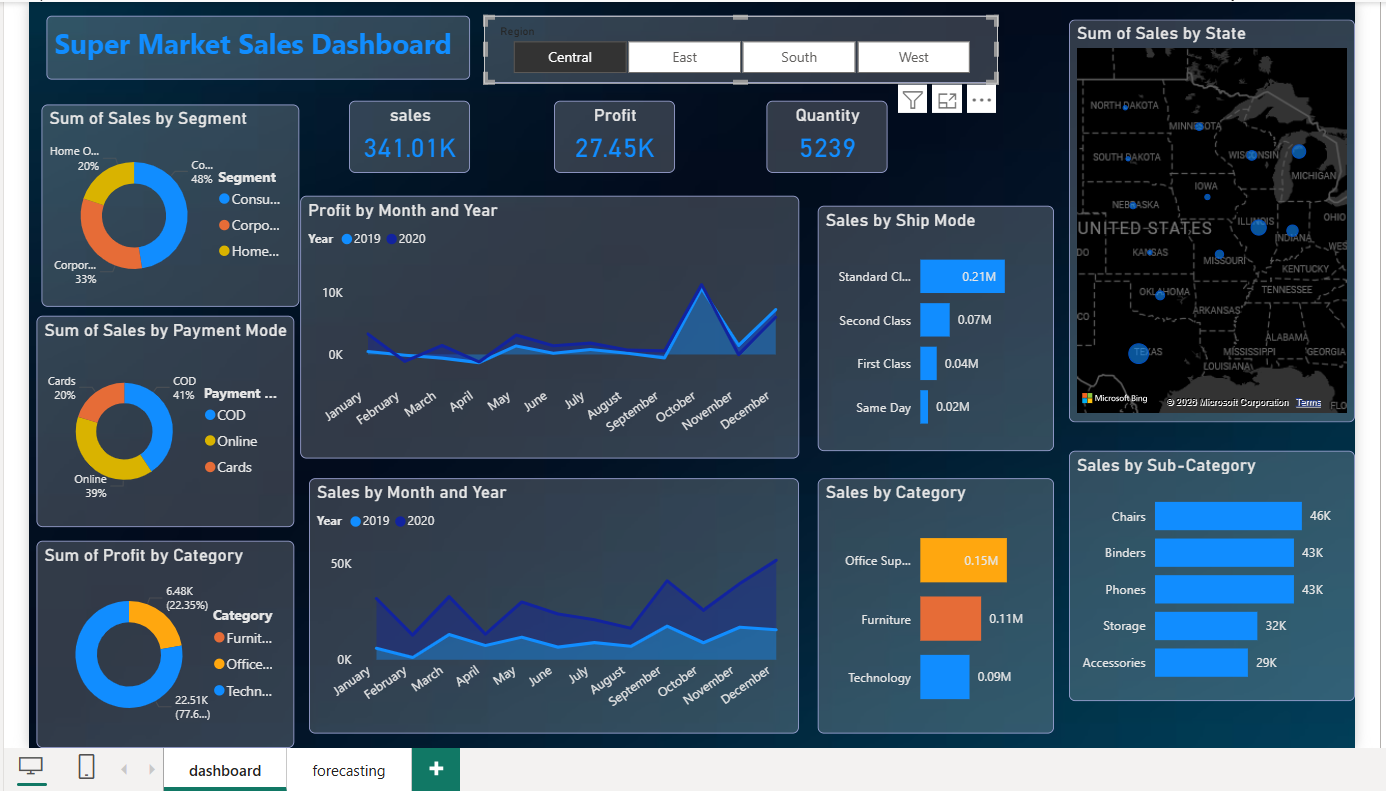

The dashboard page shown, as its layout file describes it:
{"tool":"powerbi","page":{"name":"dashboard","canvas":[1280,720],"ordinal":0},"visuals":[{"type":"clusteredBarChart","title":"Sales by Category","fields":{"Category":["SuperStore_Sales_Dataset.Category"],"Y":["Sum(SuperStore_Sales_Dataset.Sales)"]},"box":[761.3,459.7,228,246.1],"z":0},{"type":"clusteredBarChart","title":"Sales by Sub-Category","fields":{"Category":["SuperStore_Sales_Dataset.Sub-Category"],"Y":["Sum(SuperStore_Sales_Dataset.Sales)"]},"box":[1003.8,433.1,276.3,241.3],"z":1000},{"type":"clusteredBarChart","title":"Sales by Ship Mode","fields":{"Category":["SuperStore_Sales_Dataset.Ship Mode","SuperStore_Sales_Dataset.Category"],"Y":["Sum(SuperStore_Sales_Dataset.Sales)"]},"box":[761.3,196.6,228,236.5],"z":2000},{"type":"stackedAreaChart","title":" Sales by Month and Year","fields":{"Y":["Sum(SuperStore_Sales_Dataset.Sales)"],"Series":["SuperStore_Sales_Dataset.Order Date.Variation.Date Hierarchy.Year"],"Category":["SuperStore_Sales_Dataset.Order Date.Variation.Date Hierarchy.Month"]},"box":[270.2,459.7,472.9,246.1],"z":3000},{"type":"stackedAreaChart","title":"Profit by Month and Year","fields":{"Series":["SuperStore_Sales_Dataset.Order Date.Variation.Date Hierarchy.Year"],"Category":["SuperStore_Sales_Dataset.Order Date.Variation.Date Hierarchy.Month"],"Y":["Sum(SuperStore_Sales_Dataset.Profit)"]},"box":[261.2,187.5,481.2,253.8],"z":4000},{"type":"donutChart","fields":{"Category":["SuperStore_Sales_Dataset.Payment Mode"],"Y":["Sum(SuperStore_Sales_Dataset.Sales)"]},"box":[7.2,302.8,248.5,203.9],"z":5000},{"type":"donutChart","fields":{"Category":["SuperStore_Sales_Dataset.Segment"],"Y":["Sum(SuperStore_Sales_Dataset.Sales)"]},"box":[12.5,98.8,248.8,195],"z":6000},{"type":"slicer","fields":{"Values":["SuperStore_Sales_Dataset.Region"]},"box":[439.1,13.3,495.8,65.1],"z":7000},{"type":"textbox","box":[16.9,13.3,409,61.5],"z":8000},{"type":"card","title":"      sales","fields":{"Values":["Sum(SuperStore_Sales_Dataset.Sales)"]},"box":[308.8,95.3,117,70],"z":9000},{"type":"card","title":"Profit","fields":{"Values":["Sum(SuperStore_Sales_Dataset.Profit)"]},"box":[506.7,95.3,117,70],"z":10000},{"type":"card","title":"Quantity","fields":{"Values":["Sum(SuperStore_Sales_Dataset.Quantity)"]},"box":[711.8,95.3,117,70],"z":11000},{"type":"donutChart","fields":{"Y":["Sum(SuperStore_Sales_Dataset.Profit)"],"Series":["SuperStore_Sales_Dataset.Category"]},"box":[7.2,520,248.5,200.3],"z":12000},{"type":"map","fields":{"Size":["Sum(SuperStore_Sales_Dataset.Sales)"],"Category":["SuperStore_Sales_Dataset.State"]},"box":[1003.8,16.9,276.3,388.5],"z":13000}]}

Visuals, with their boxes on the page's 1280x720 design canvas (x1, y1, x2, y2). These are canvas units, not pixel positions in the 1386x791 screenshot, which may show the page scaled, cropped or inside an application window:
"Sales by Category" clusteredBarChart: <box>761,460,989,706</box>
"Sales by Sub-Category" clusteredBarChart: <box>1004,433,1280,674</box>
"Sales by Ship Mode" clusteredBarChart: <box>761,197,989,433</box>
" Sales by Month and Year" stackedAreaChart: <box>270,460,743,706</box>
"Profit by Month and Year" stackedAreaChart: <box>261,188,742,441</box>
donutChart - SuperStore_Sales_Dataset.Payment Mode x Sum(SuperStore_Sales_Dataset.Sales): <box>7,303,256,507</box>
donutChart - SuperStore_Sales_Dataset.Segment x Sum(SuperStore_Sales_Dataset.Sales): <box>12,99,261,294</box>
slicer - SuperStore_Sales_Dataset.Region: <box>439,13,935,78</box>
textbox: <box>17,13,426,75</box>
"      sales" card: <box>309,95,426,165</box>
"Profit" card: <box>507,95,624,165</box>
"Quantity" card: <box>712,95,829,165</box>
donutChart - Sum(SuperStore_Sales_Dataset.Profit) x SuperStore_Sales_Dataset.Category: <box>7,520,256,720</box>
map - Sum(SuperStore_Sales_Dataset.Sales) x SuperStore_Sales_Dataset.State: <box>1004,17,1280,405</box>
